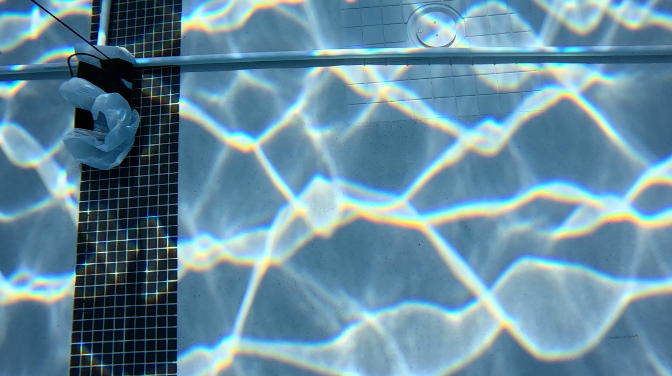sandbag: (74, 42, 138, 161)
